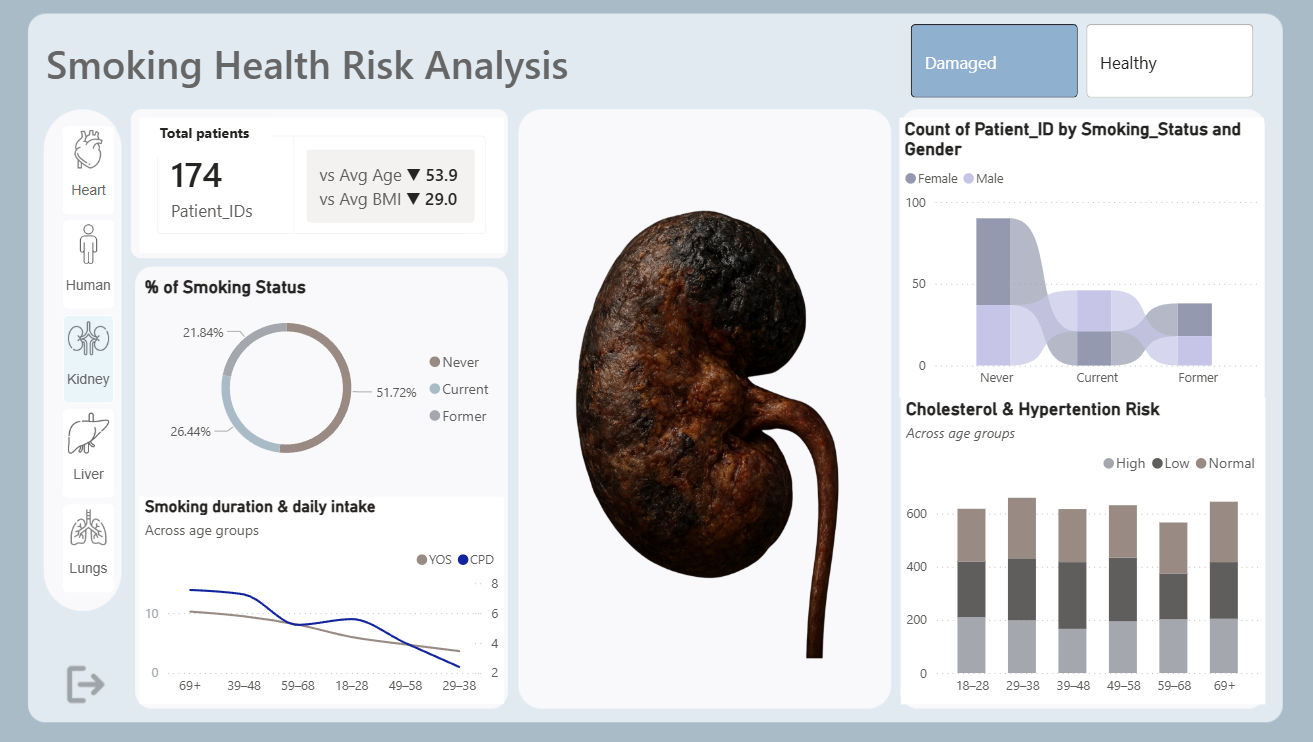

Layout of this report page (visuals, bound fields, positions):
{"tool":"powerbi","page":{"name":"Page 1","canvas":[1280,720],"ordinal":0},"visuals":[{"type":"cardVisual","fields":{"Data":["CountNonNull(health_dataset.Patient_ID)"]},"box":[145.5,118,347.2,129],"z":0},{"type":"advancedSlicerVisual","fields":{"Values":["condition.Organ_Condition"]},"box":[875.5,23.3,336.2,81],"z":1},{"type":"ChicletSlicer1448559807354","fields":{"Category":["Organs.Organ"],"Image":["Organs.Icon_URL"]},"box":[64.5,118,70,465.2],"z":2},{"type":"image","box":[511.8,118,347.2,558.5],"z":3},{"type":"donutChart","title":"% of Smoking Status","fields":{"Category":["health_dataset.Smoking_Status"],"Y":["CountNonNull(health_dataset.Smoking_Status)"]},"box":[145.5,269,347.2,193.5],"z":4},{"type":"lineChart","title":"Smoking duration & daily intake ","fields":{"Category":["health_dataset.Age Group"],"Y":["Avg(health_dataset.Years_of_Smoking)"],"Y2":["Avg(health_dataset.Cigarettes_Per_Day)"]},"box":[145.5,478.9,347.2,197.6],"z":5},{"type":"ribbonChart","fields":{"Category":["health_dataset.Smoking_Status"],"Y":["CountNonNull(health_dataset.Patient_ID)"],"Series":["health_dataset.Gender"]},"box":[868.6,118,347.2,266.2],"z":6},{"type":"columnChart","title":"Cholesterol & Hypertention Risk","fields":{"Category":["health_dataset.Age Group"],"Y":["Avg(health_dataset.Cholesterol_Level)"],"Series":["health_dataset.BP_Risk"]},"box":[870,384.2,347.2,292.3],"z":7},{"type":"textbox","box":[159.2,118,111.1,38.4],"z":8},{"type":"textbox","box":[50.8,35.7,668.3,68.6],"z":9}]}

Visuals, with their boxes in screenshot pixels (x1, y1, x2, y2), scaled from the page's 1280x720 canvas onto the 1313x742 screenshot:
cardVisual - CountNonNull(health_dataset.Patient_ID): crop(149, 122, 505, 255)
advancedSlicerVisual - condition.Organ_Condition: crop(898, 24, 1243, 107)
ChicletSlicer1448559807354 - Organs.Organ x Organs.Icon_URL: crop(66, 122, 138, 601)
image: crop(525, 122, 881, 697)
"% of Smoking Status" donutChart: crop(149, 277, 505, 477)
"Smoking duration & daily intake " lineChart: crop(149, 494, 505, 697)
ribbonChart - health_dataset.Smoking_Status x CountNonNull(health_dataset.Patient_ID): crop(891, 122, 1247, 396)
"Cholesterol & Hypertention Risk" columnChart: crop(892, 396, 1249, 697)
textbox: crop(163, 122, 277, 161)
textbox: crop(52, 37, 738, 107)
